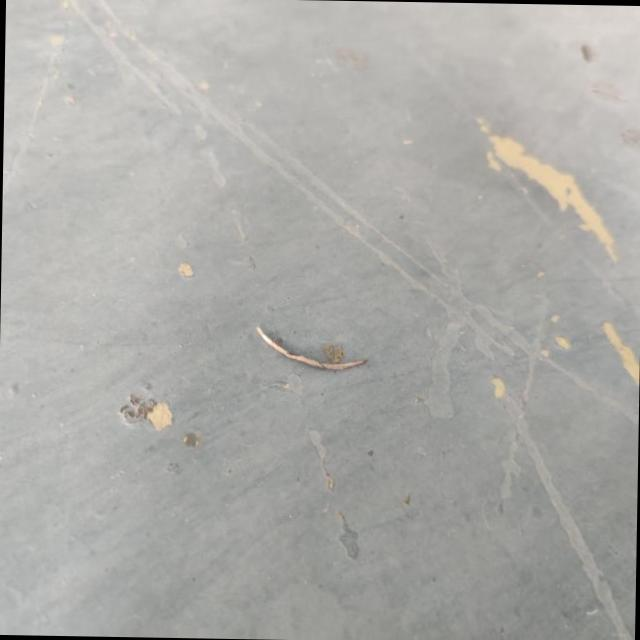Scratch: (250, 310, 375, 378)
